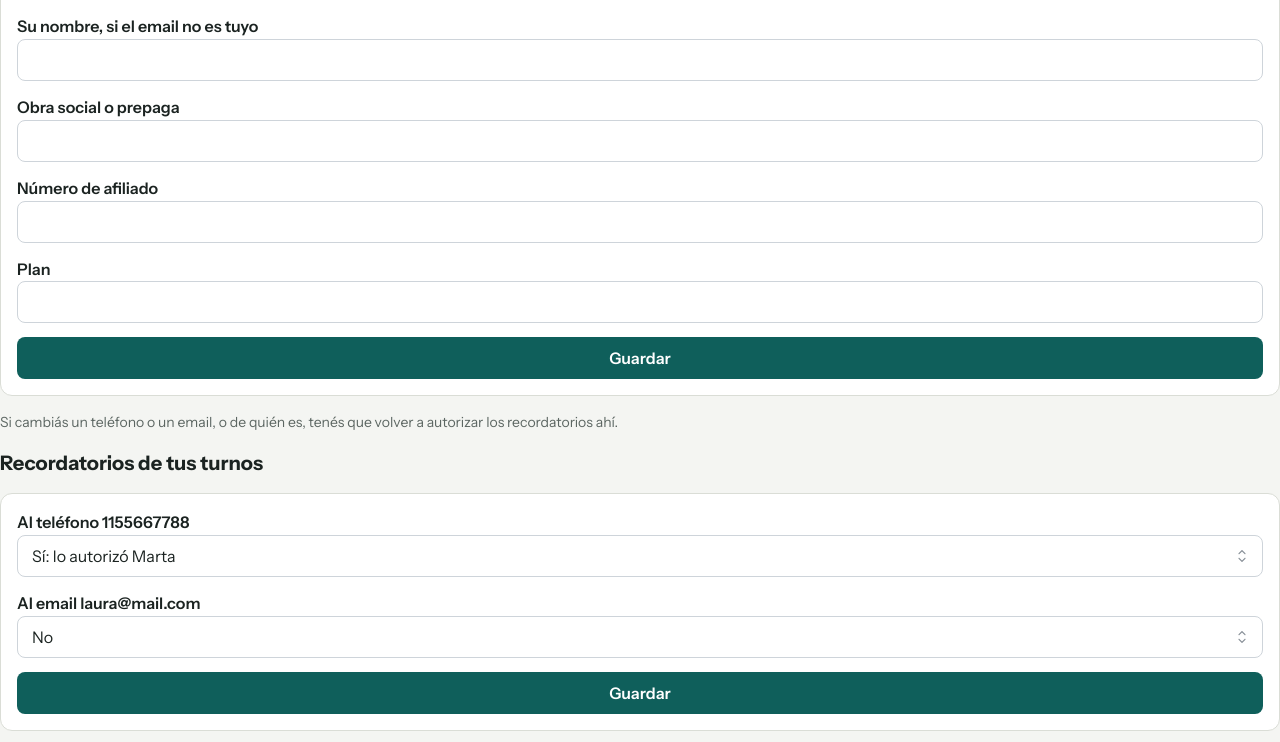
Scenario: Mis datos › saves the reminders of each channel as chosen, the owner's consent kept as it stands
(page scrolled)
Expected: the dropdown labelled "Al teléfono 1155667788" shows "Sí: lo autorizó Marta", [17, 535, 1263, 577]
Select "Sí, lo autorizo yo" in the dropdown labelled "Al email laura@mail.com" at x=640, y=637, box [17, 616, 1263, 658]
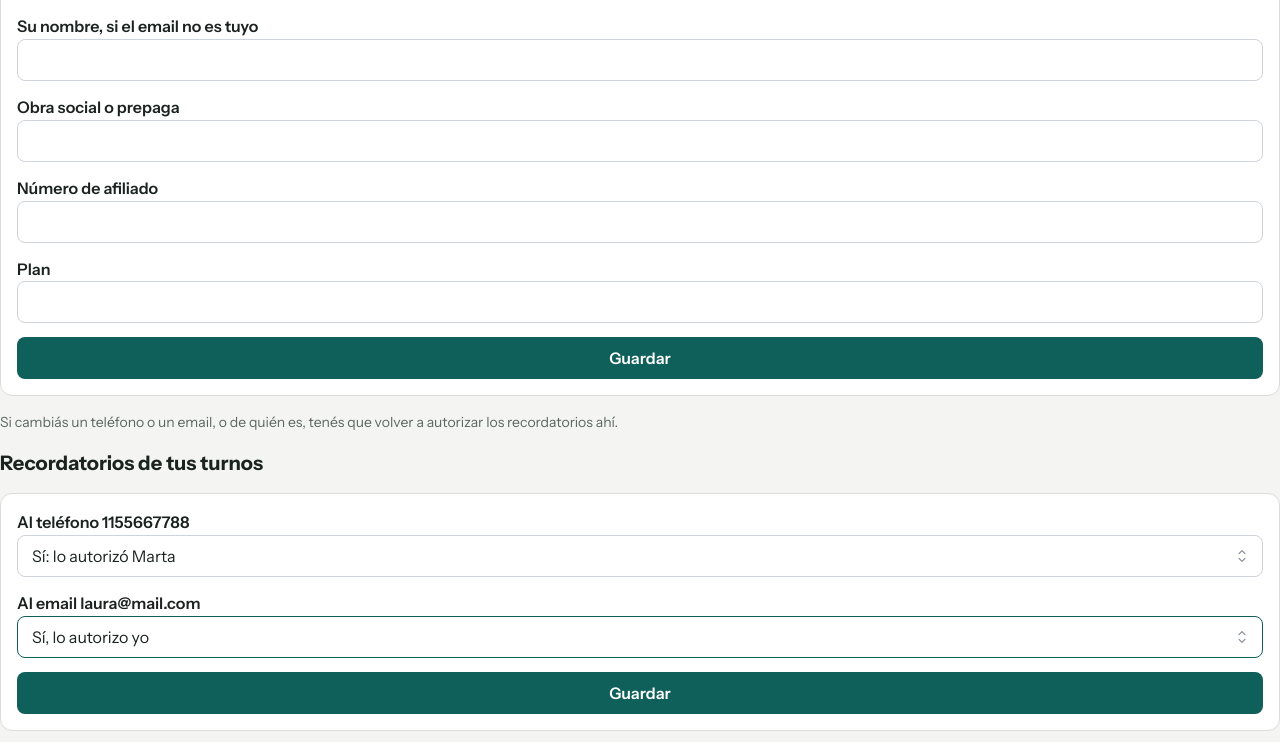
Click the button "Guardar" below "Al email laura@mail.com" at x=640, y=693, box [17, 672, 1263, 714]
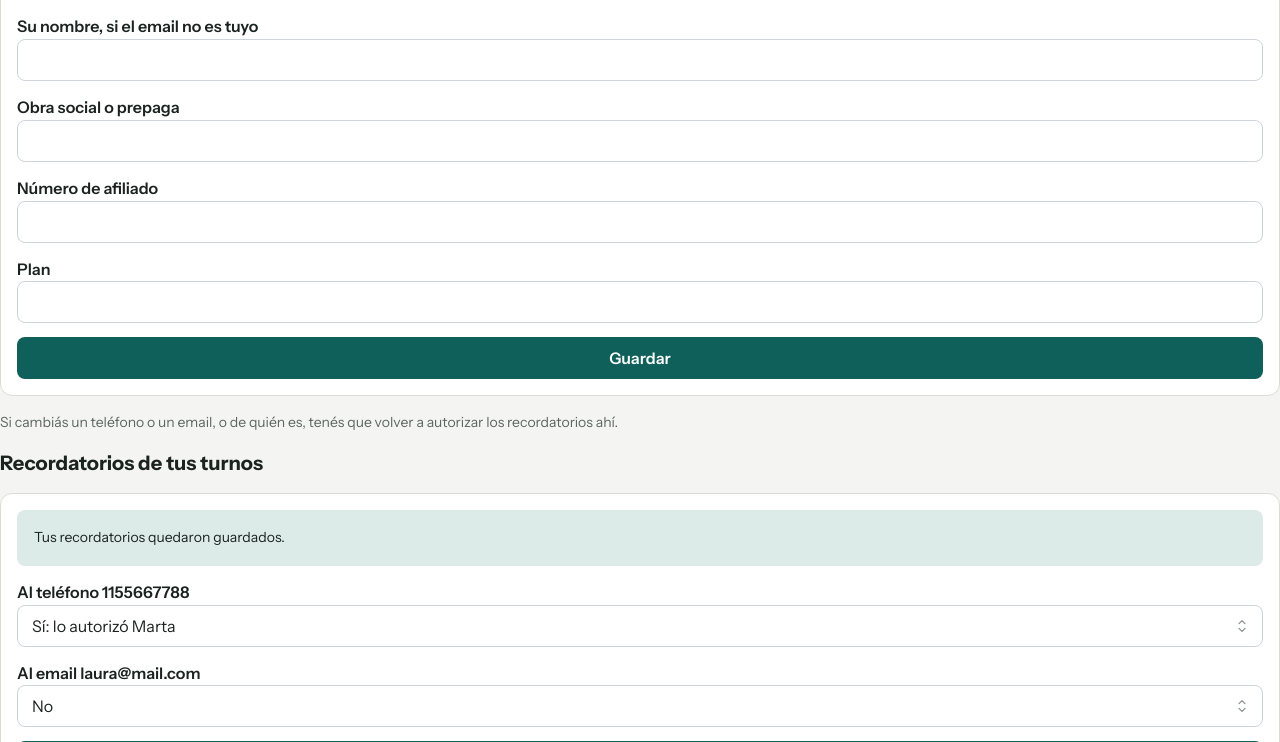
Result: the message reads "Tus recordatorios quedaron guardados." at [34, 528, 285, 546]
